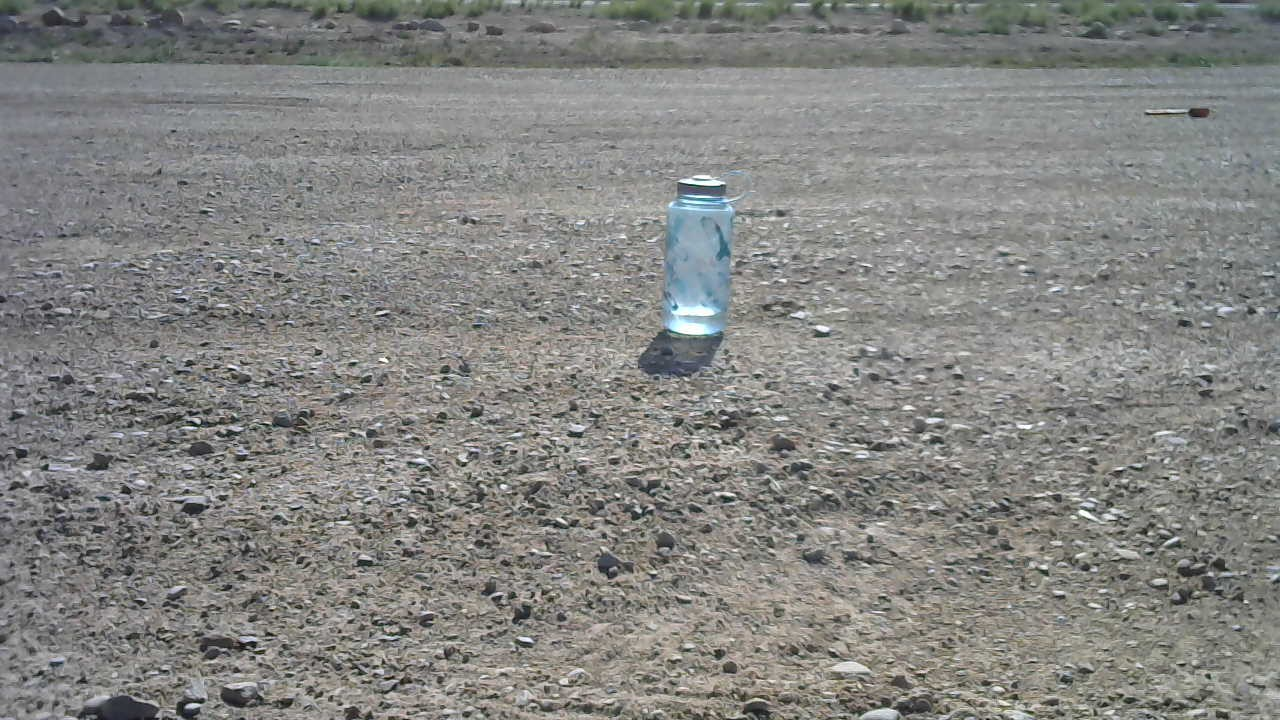bottle: (656, 160, 749, 339)
hammer: (1133, 101, 1217, 119)
